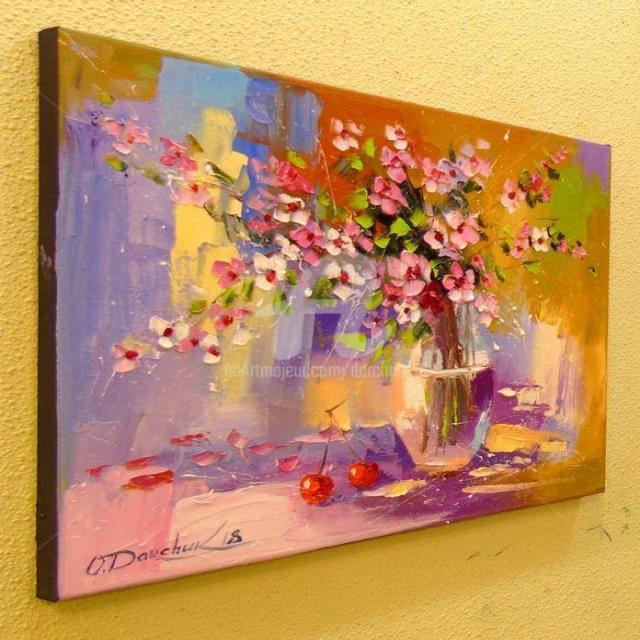painting: (55, 28, 612, 601)
